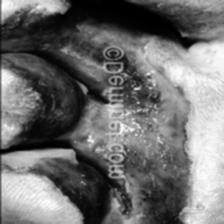Toxin: (1, 171, 184, 224), (0, 50, 69, 152)
